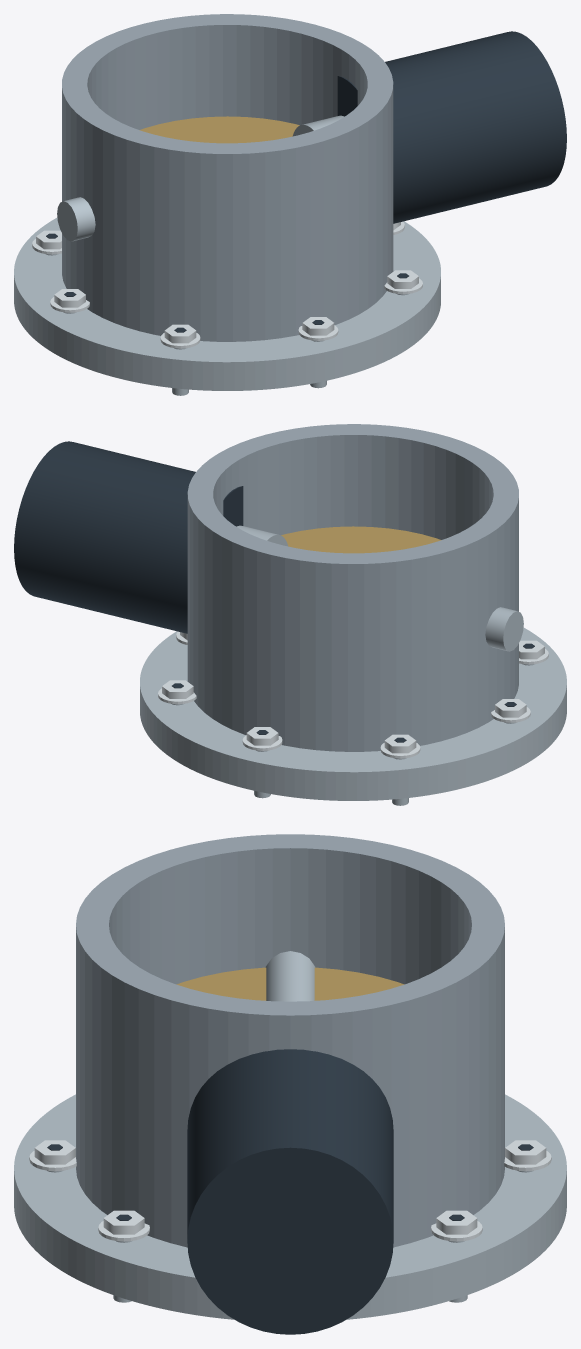
The model's file is inlet.glb.
The picture shows the model from 3 angles, top to bottom: view 1: azimuth 30°, elevation 25°; view 2: azimuth 150°, elevation 25°; view 3: azimuth 270°, elevation 25°; orthographic projection. The views are drawn at different scales.
Parts seen in each view (by area): view 1: Thân van, Cơ cấu chấp hành, Đĩa van hút; view 2: Thân van, Cơ cấu chấp hành, Đĩa van hút; view 3: Thân van, Cơ cấu chấp hành, Đĩa van hút.
Part boxes in pixels (left/top/right/bottom): Thân van: left=14, top=14, right=440, bottom=395; Cơ cấu chấp hành: left=292, top=31, right=566, bottom=223; Đĩa van hút: left=139, top=116, right=299, bottom=143; Thân van: left=140, top=424, right=566, bottom=805; Cơ cấu chấp hành: left=14, top=441, right=288, bottom=633; Đĩa van hút: left=281, top=526, right=441, bottom=553; Thân van: left=14, top=834, right=566, bottom=1319; Cơ cấu chấp hành: left=187, top=1049, right=393, bottom=1334; Đĩa van hút: left=176, top=967, right=404, bottom=1000.
Bounding box in the file's own units: 1.76 × 0.81 × 1.34.
